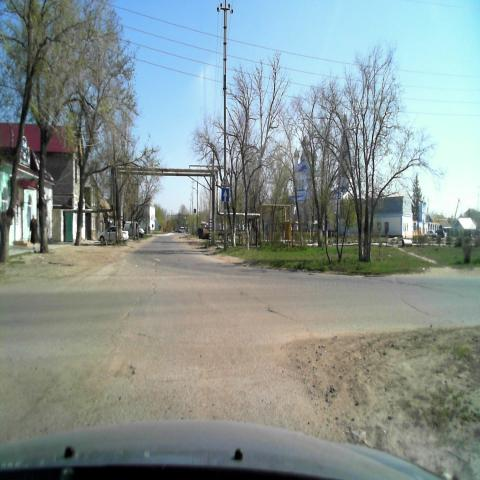1_21: (220, 174, 230, 188)
